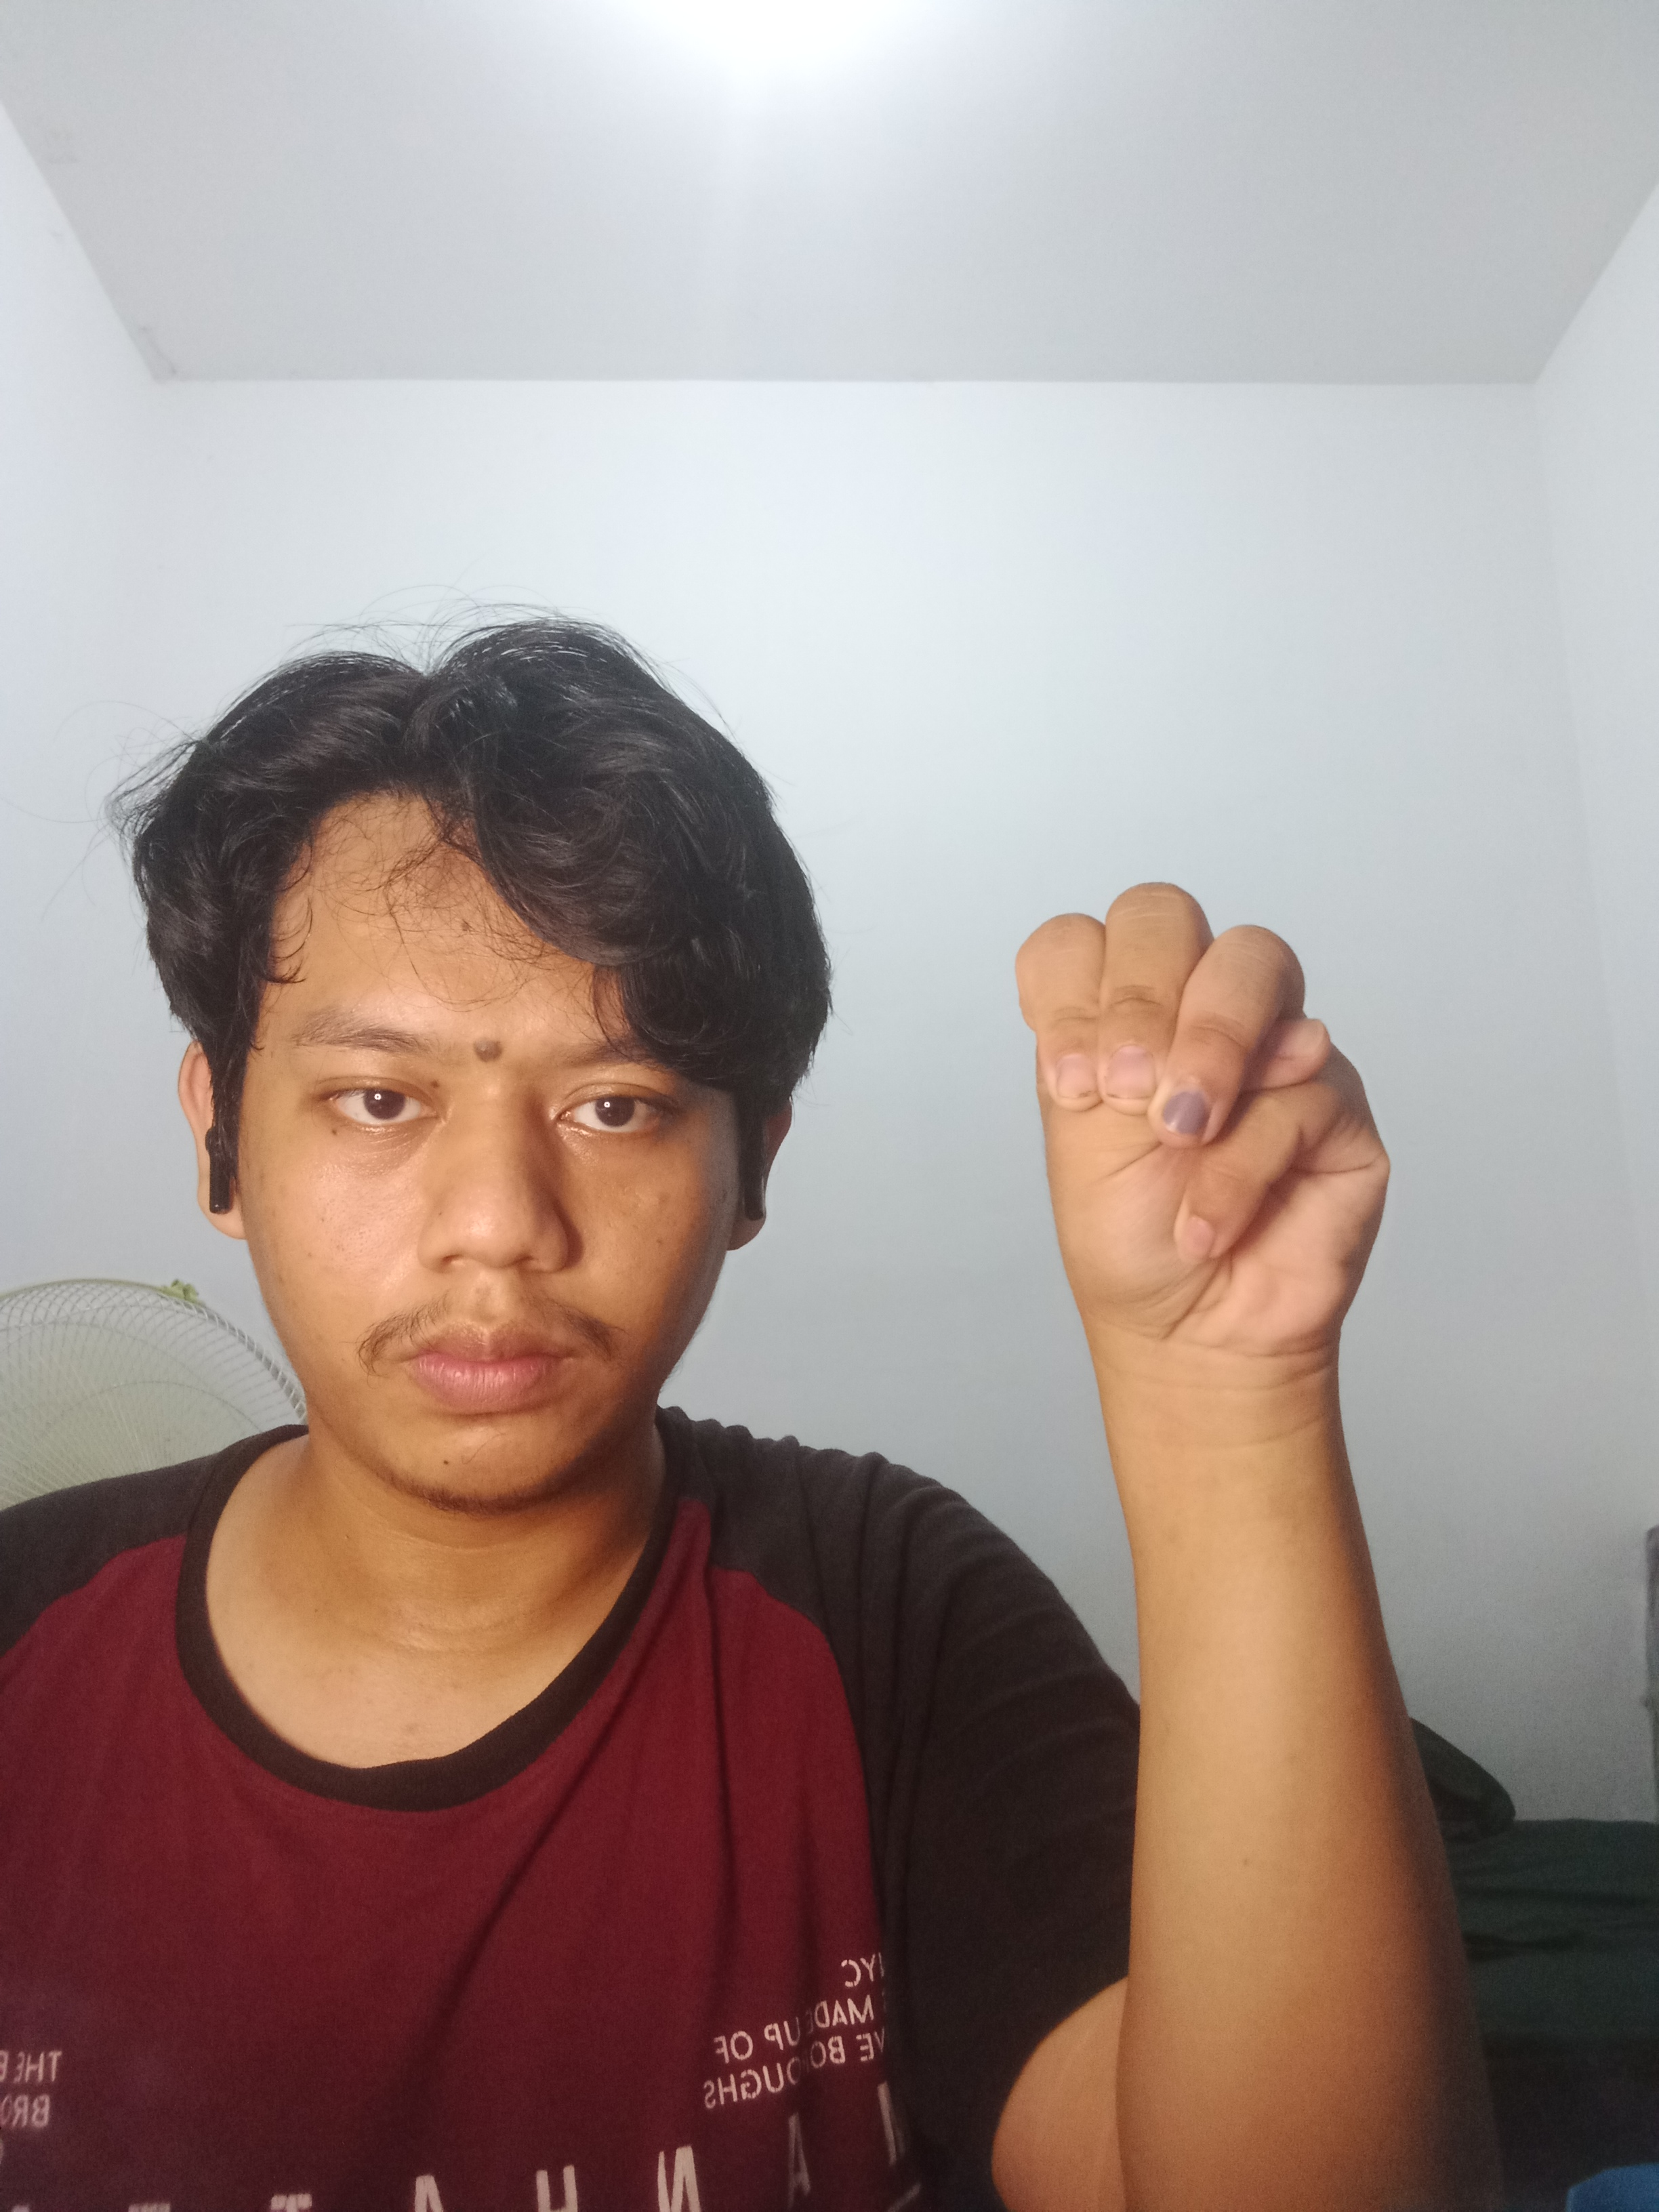M: (983, 874, 1459, 1421)
